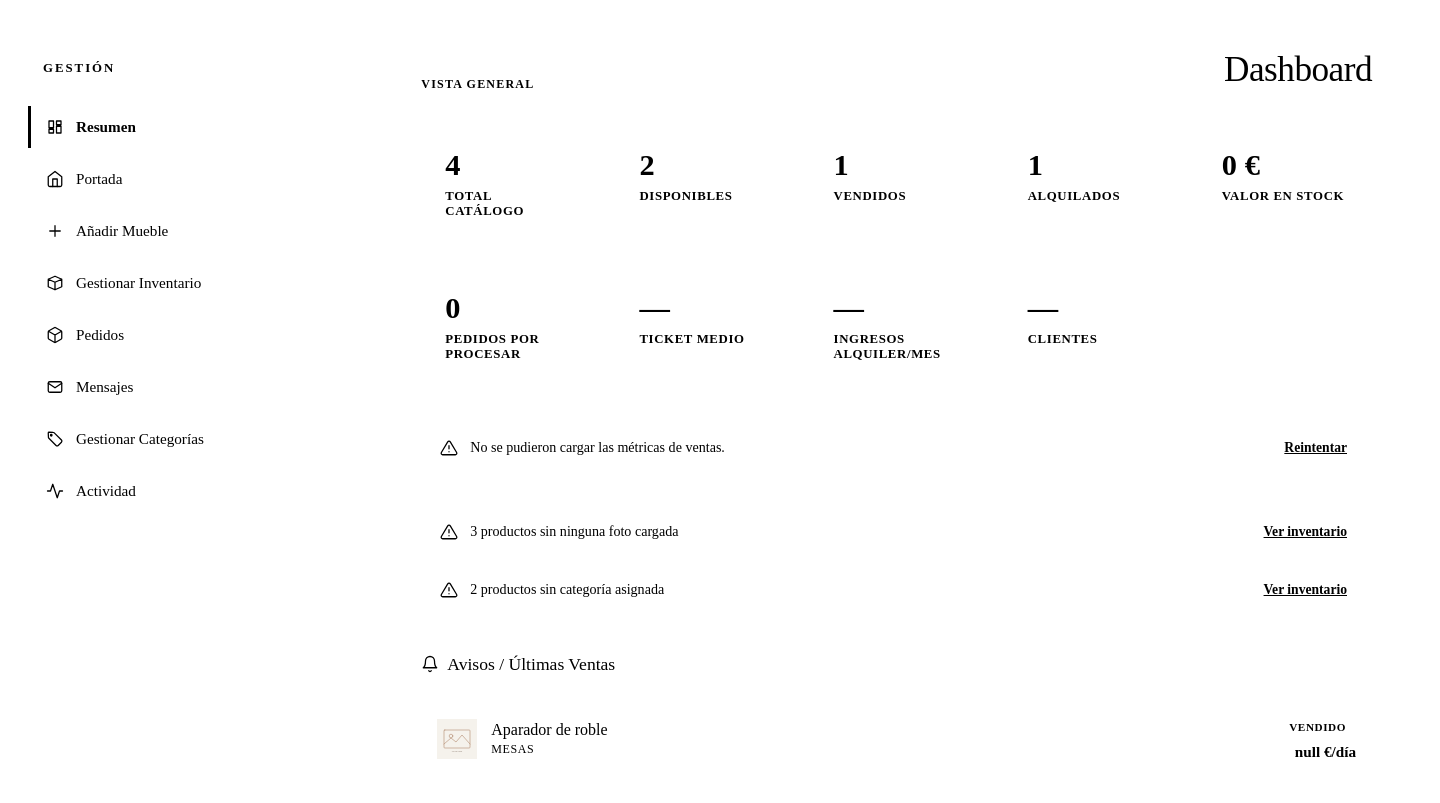
Scenario: Mensajes con piezas — tarjetas › dos referencias distintas, dos tarjetas (una repetida no cuenta dos veces)
Click the button "Mensajes" at (105, 386), box [28,366,341,408]
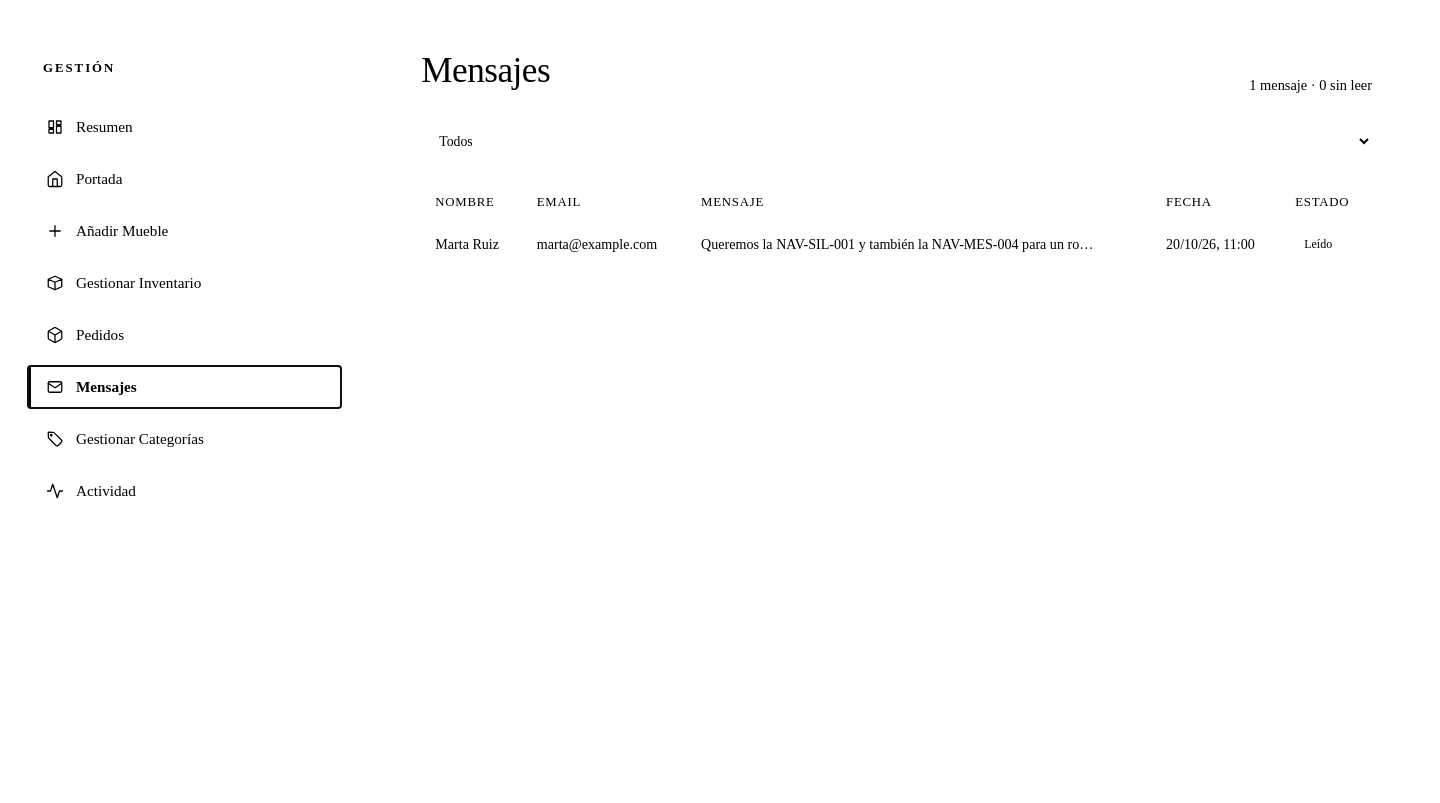
Click the button "Marta Ruiz" at (467, 244), box [435,236,499,253]
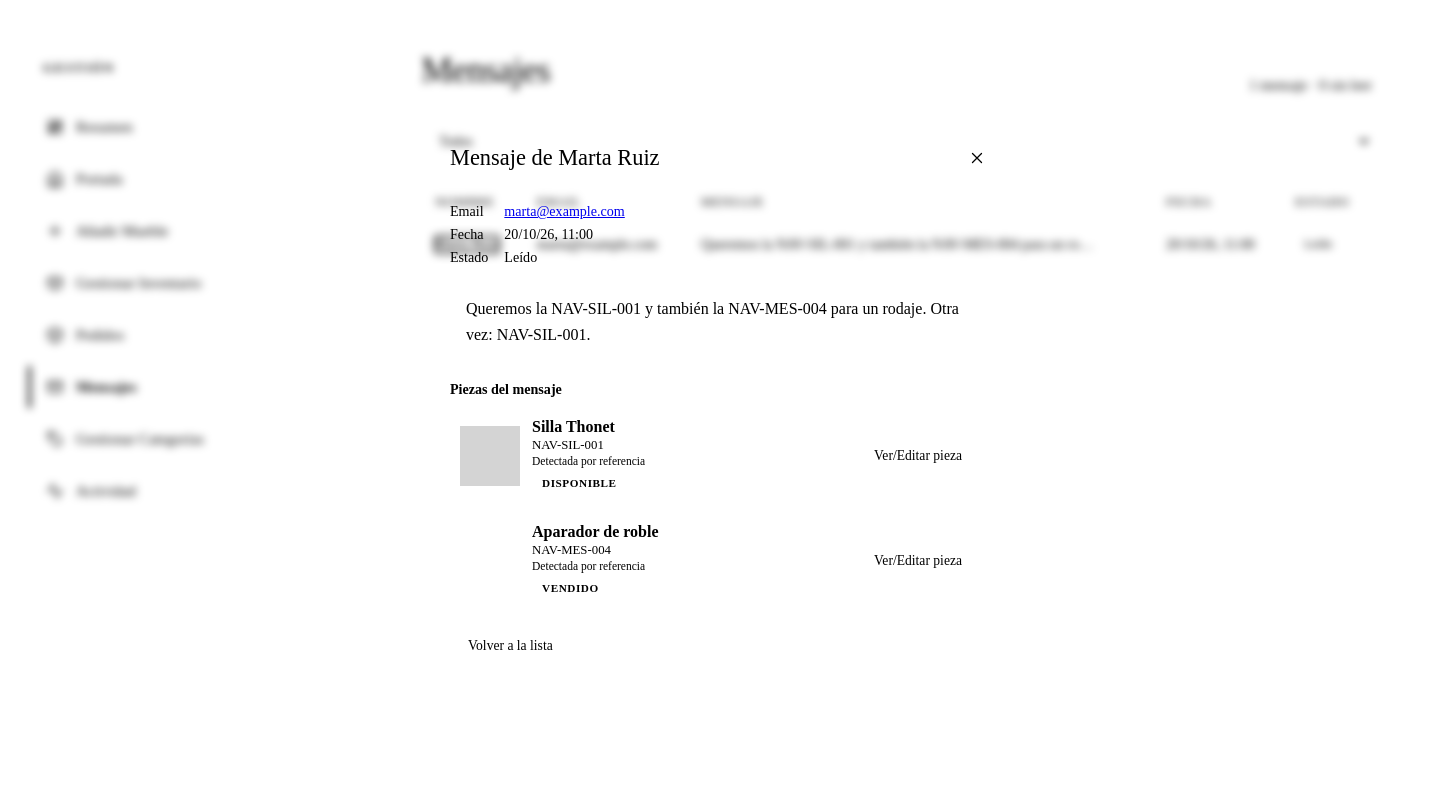
Expected: the heading "Piezas del mensaje" is shown, [450,381,562,397]
Expected: the number of list items is 2, [450,408,990,503]; [532,523,980,594]
Expected: the text "Silla Thonet" is shown, [532,418,615,436]
